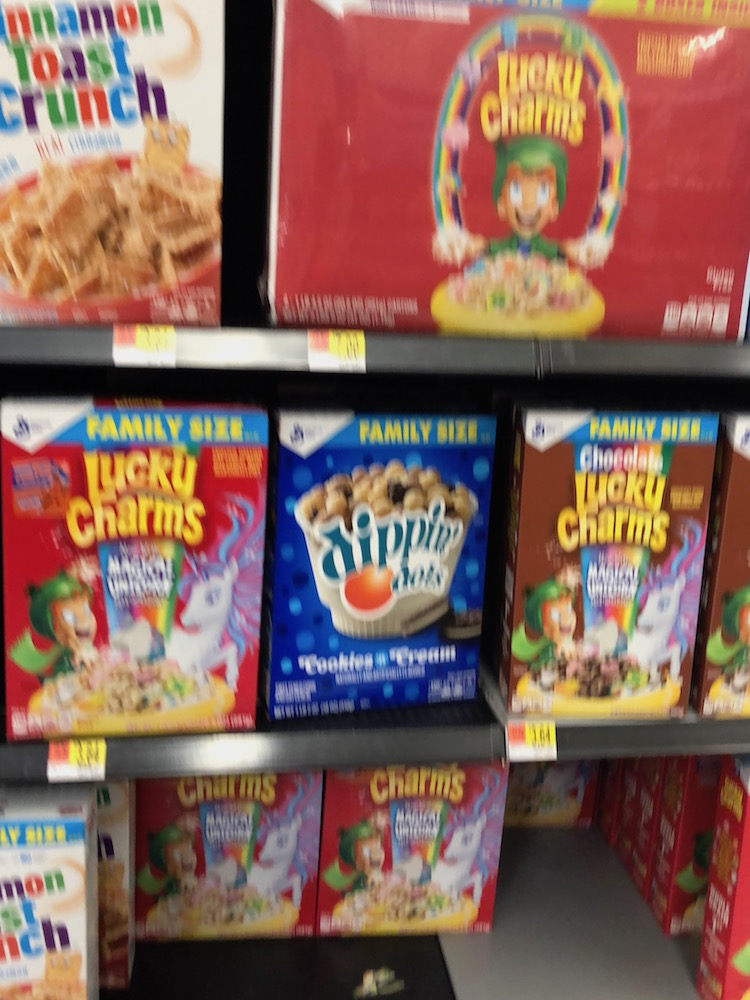Dippin Dots Cookies & Cream -568929378: (267, 430, 496, 705)
